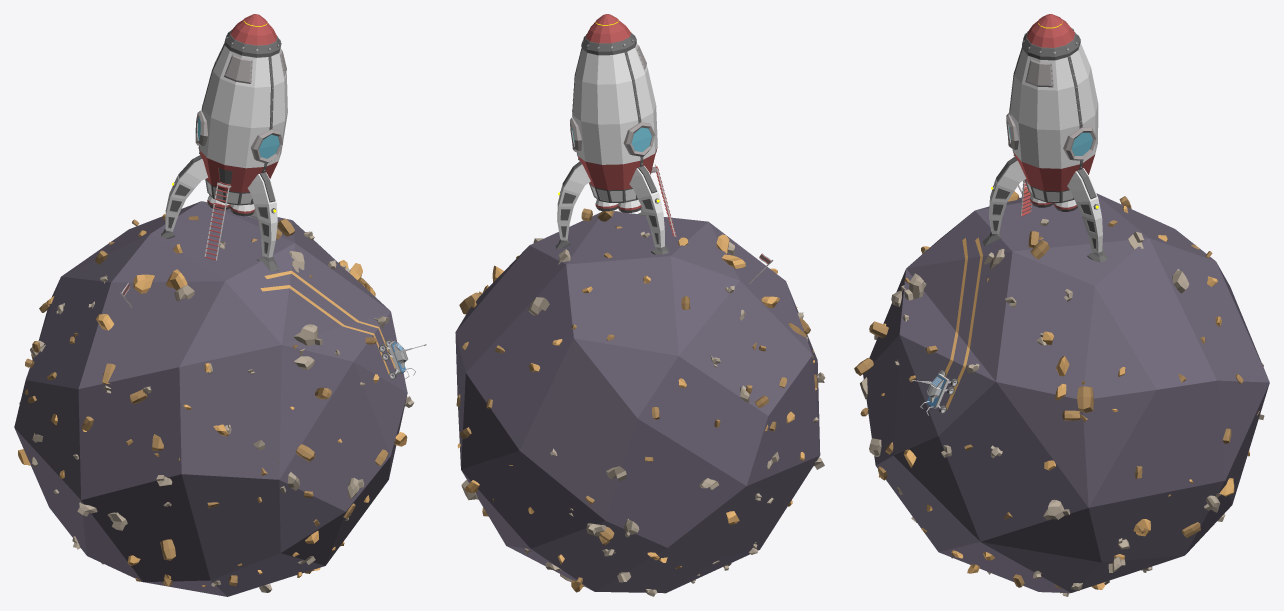
Rendered from planet-as-is.glb.
3 renders of one model, left to right at view 1: azimuth 30°, elevation 25°; view 2: azimuth 150°, elevation 25°; view 3: azimuth 270°, elevation 25°, orthographic. The views are drawn at different scales.
Visible parts, largest first — view 1: planet.002, planet.003; view 2: planet.002, planet.003; view 3: planet.002, planet.003.
Boxes of the visible parts, bbox=[...] form: planet.002: bbox=[14, 14, 425, 596]; planet.003: bbox=[18, 203, 426, 587]; planet.002: bbox=[455, 14, 824, 595]; planet.003: bbox=[456, 210, 825, 596]; planet.002: bbox=[854, 14, 1269, 596]; planet.003: bbox=[860, 185, 1263, 531].
Bounding box in the file's own units: 13.89 × 21.95 × 14.43.
Materials: 1 (1 with a texture image).
